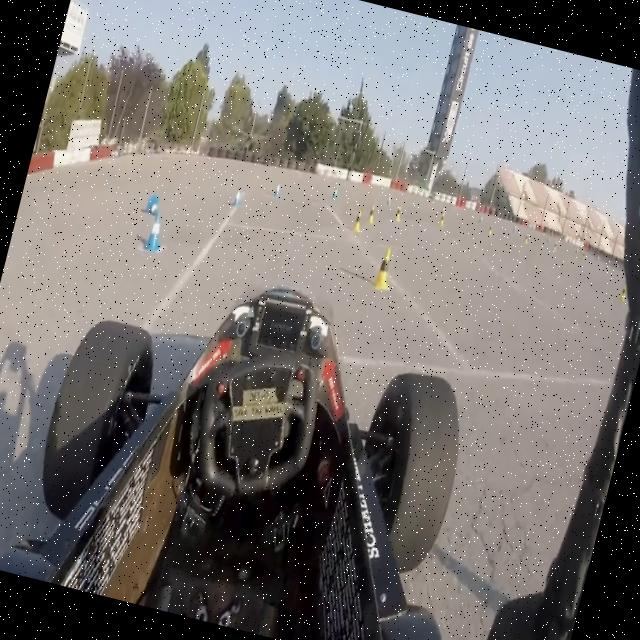blue_cone: (141, 212, 168, 256), (142, 192, 165, 220), (231, 182, 246, 209), (330, 182, 342, 204), (271, 180, 282, 200)
yellow_cone: (369, 242, 398, 291), (350, 206, 367, 235), (366, 203, 378, 227), (392, 202, 404, 225), (618, 284, 628, 303), (438, 212, 446, 228), (523, 232, 530, 246), (487, 224, 493, 236), (552, 239, 558, 251)
